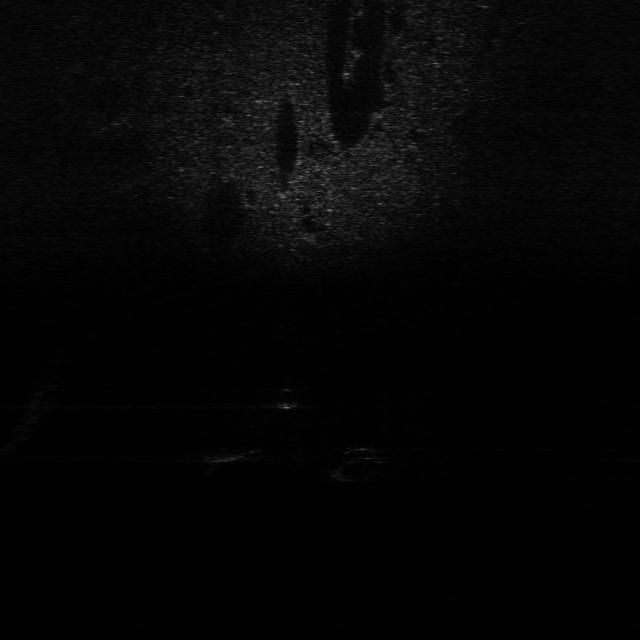ball: (270, 385, 300, 410)
square cage: (198, 433, 266, 468)
tyre: (330, 444, 386, 482)
